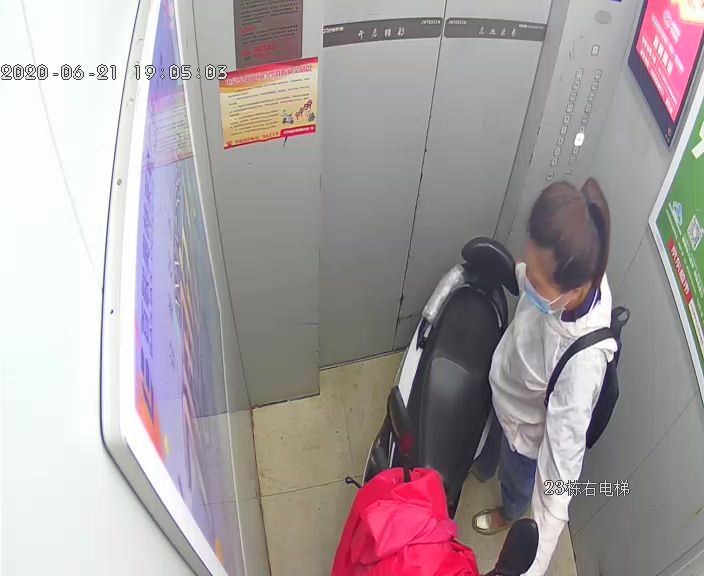Electric-bicycle: (344, 235, 538, 575)
